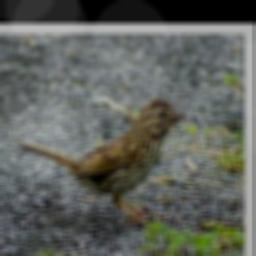Sparrow: (14, 95, 194, 229)
